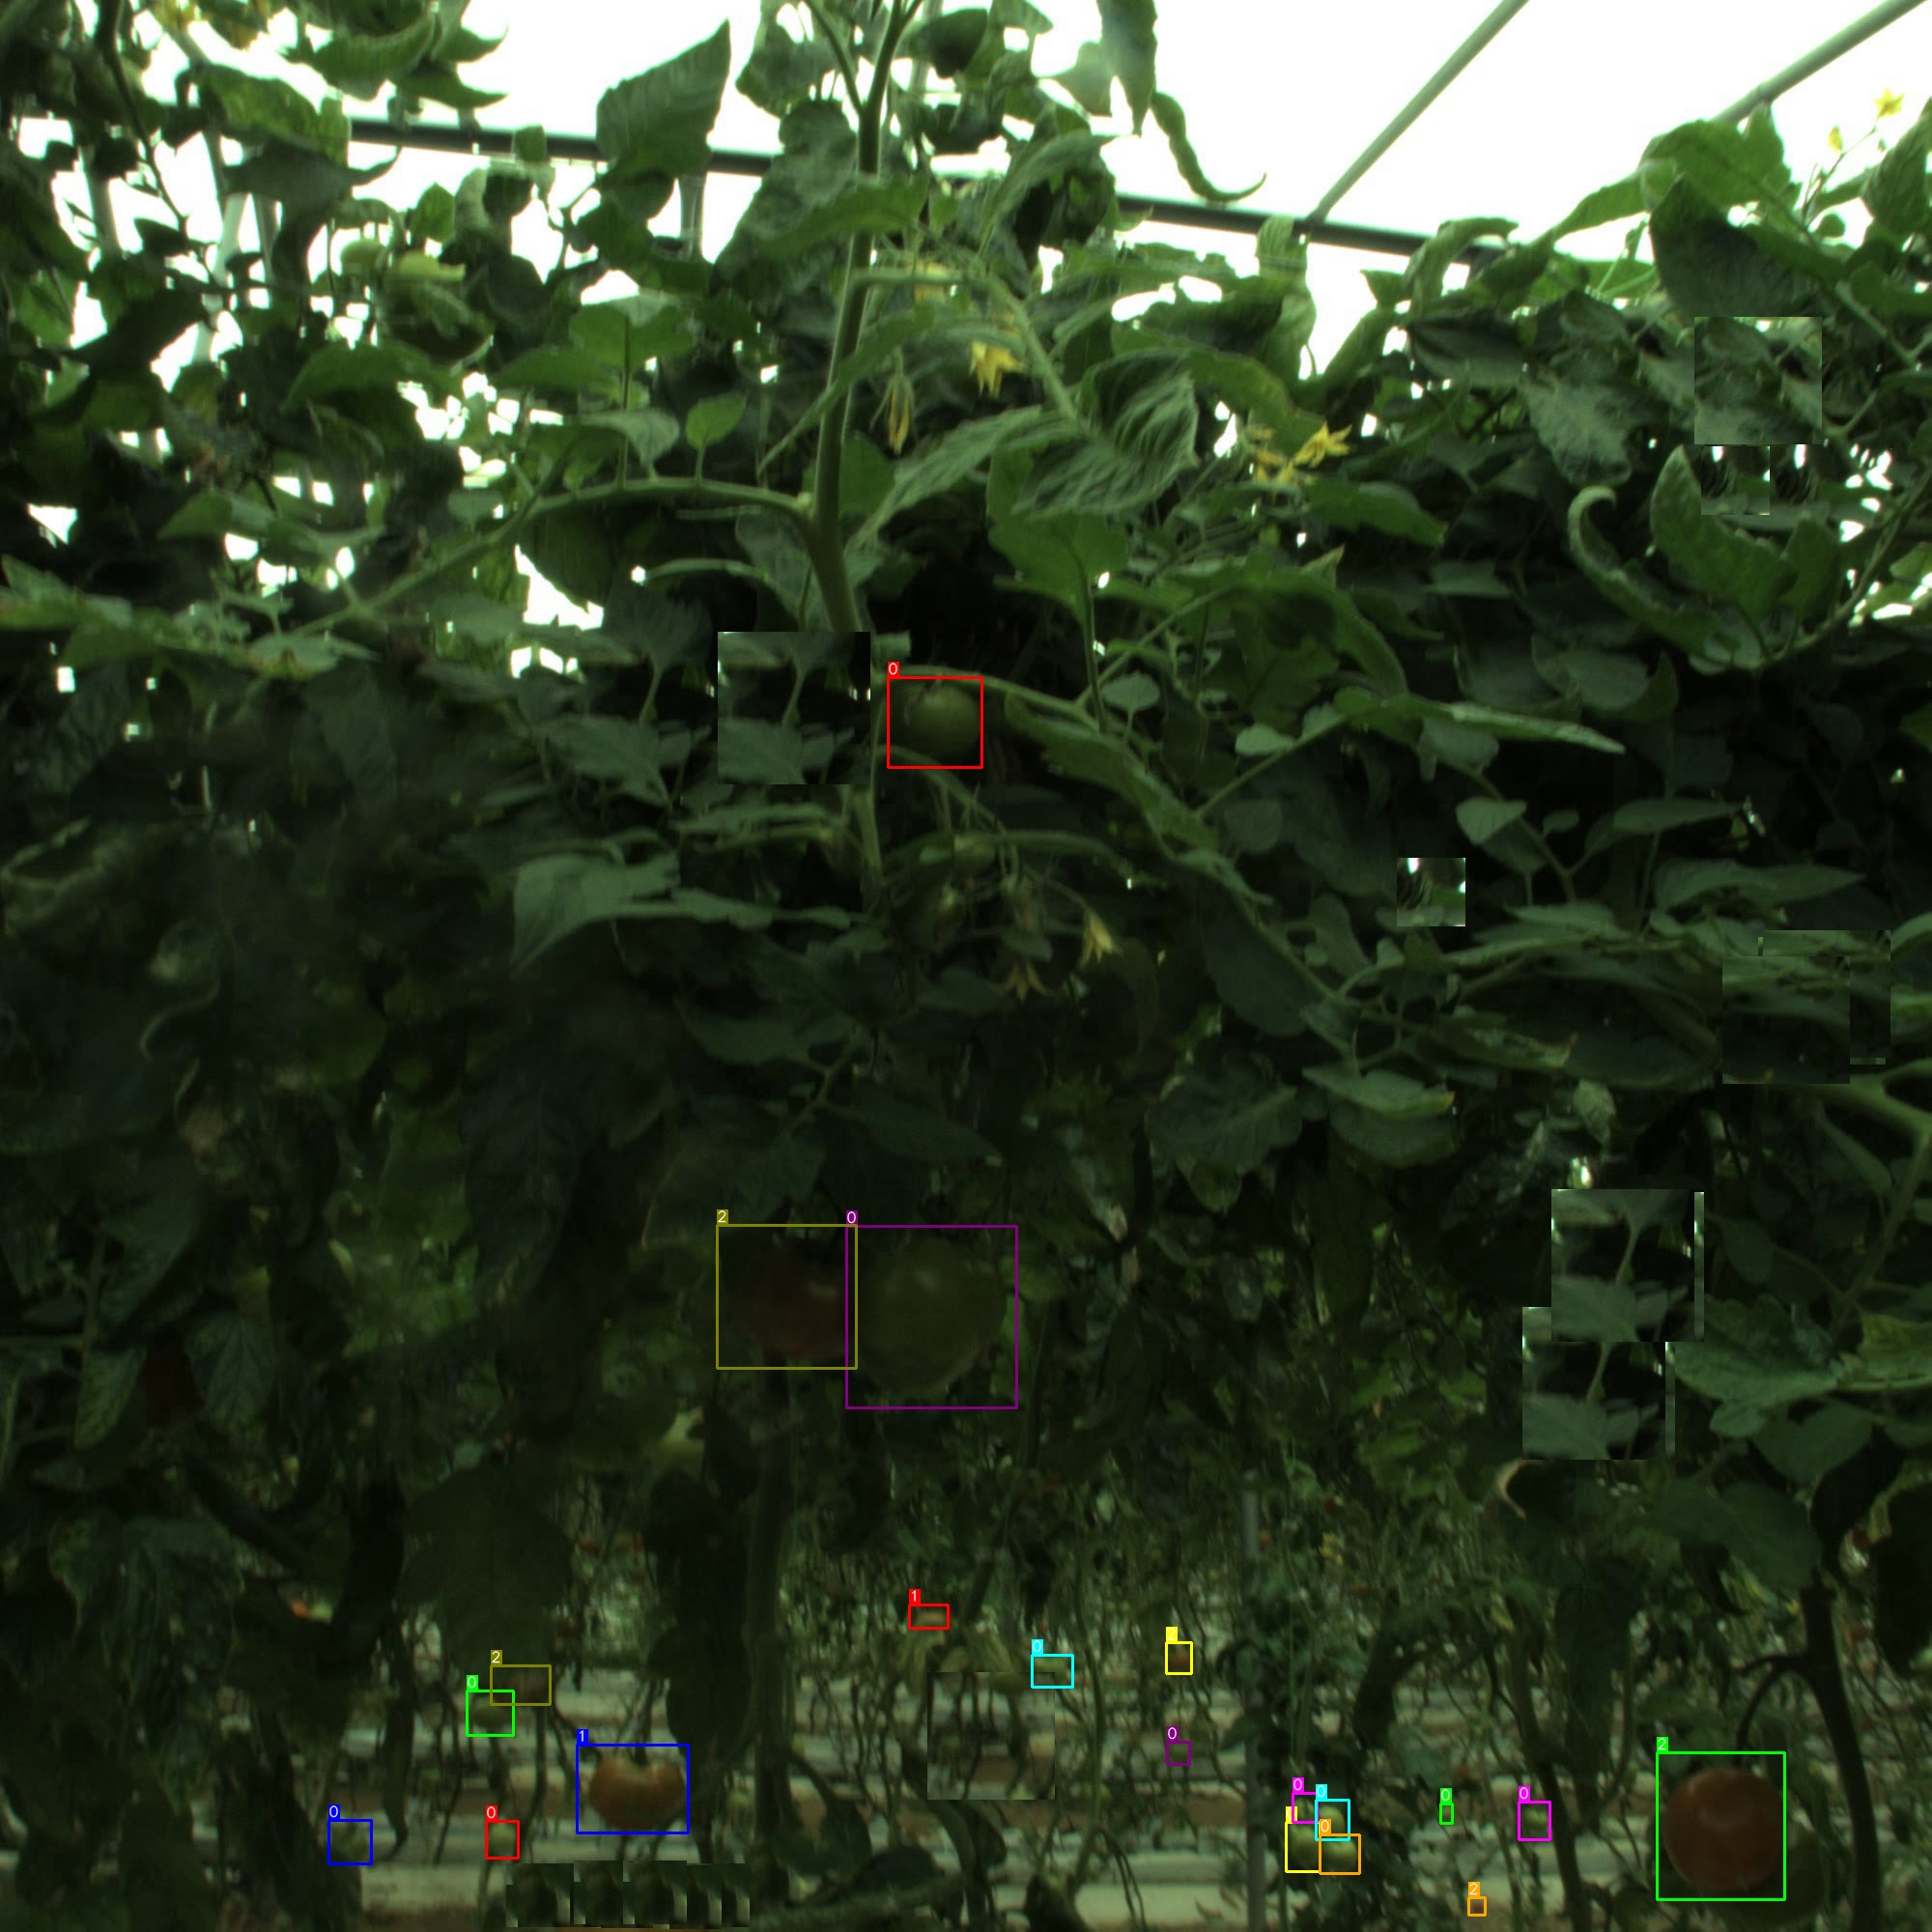MatureStage: (717, 1224, 856, 1368), (1656, 1752, 1783, 1900), (490, 1665, 550, 1706), (1166, 1642, 1192, 1674), (1468, 1897, 1486, 1914)
TurningStage: (577, 1744, 688, 1833), (909, 1605, 948, 1629)
WhiteStage: (846, 1226, 1016, 1408), (888, 678, 982, 768), (467, 1691, 513, 1736), (329, 1821, 372, 1865), (1286, 1822, 1320, 1872), (1320, 1835, 1359, 1874), (1316, 1799, 1348, 1840), (1031, 1654, 1072, 1686), (487, 1821, 518, 1859), (1518, 1801, 1550, 1840), (1293, 1792, 1318, 1822), (1168, 1741, 1191, 1764), (1440, 1803, 1453, 1822)
